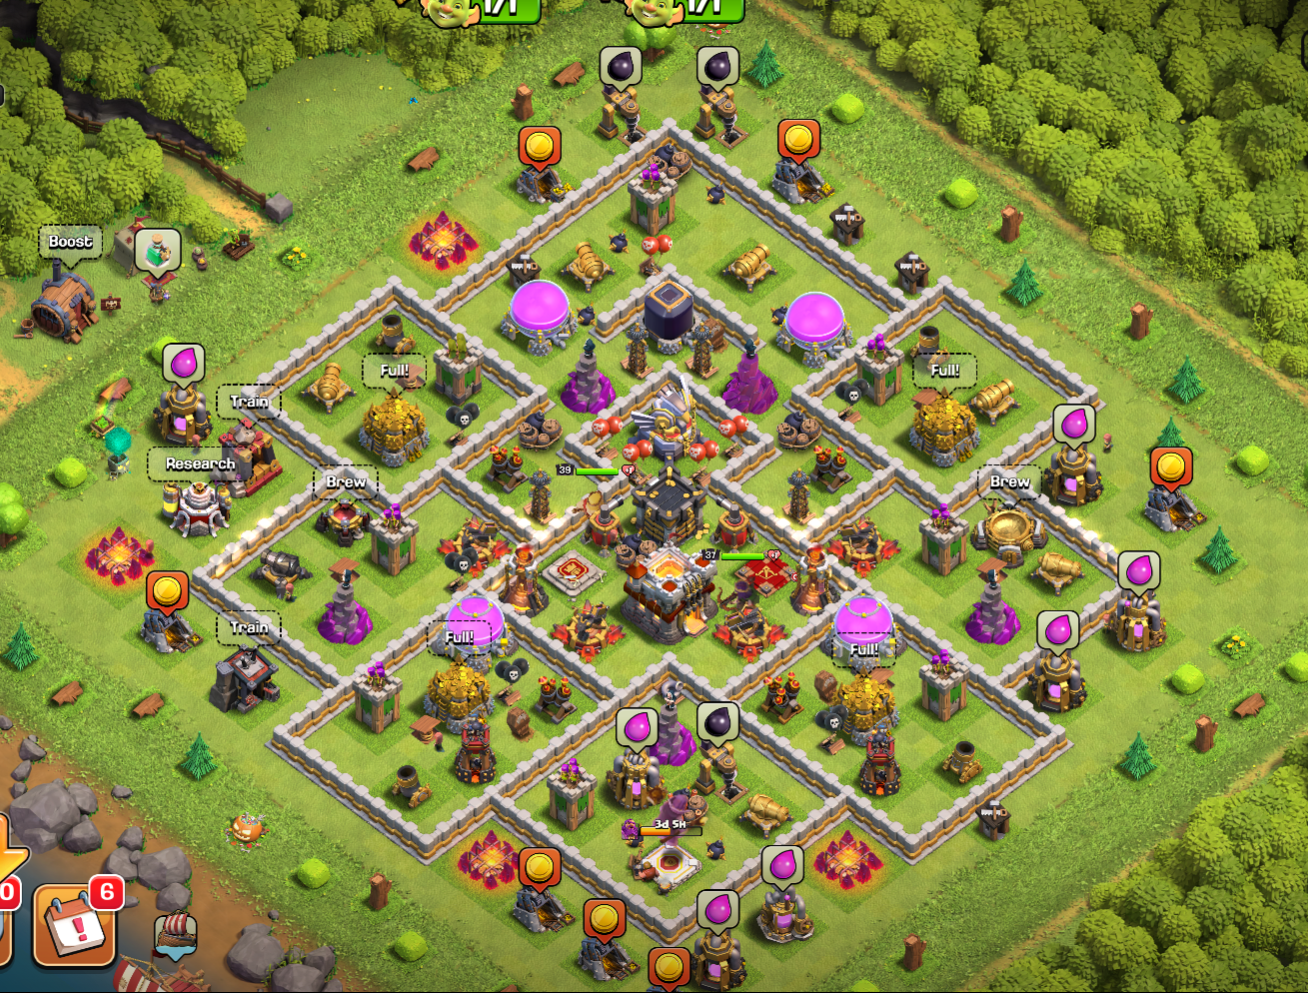dark_elixir_colector: (684, 43, 756, 160), (577, 46, 654, 152), (685, 707, 757, 809)
elixir_colector: (1034, 403, 1110, 505), (751, 845, 822, 952), (1019, 623, 1099, 717), (1103, 566, 1179, 653), (149, 355, 213, 450), (682, 906, 755, 988), (605, 726, 670, 816)
gold_mine: (496, 868, 580, 944), (1141, 463, 1213, 543), (570, 916, 644, 989), (130, 595, 204, 665), (771, 143, 831, 216), (506, 149, 572, 212), (633, 973, 694, 993)
